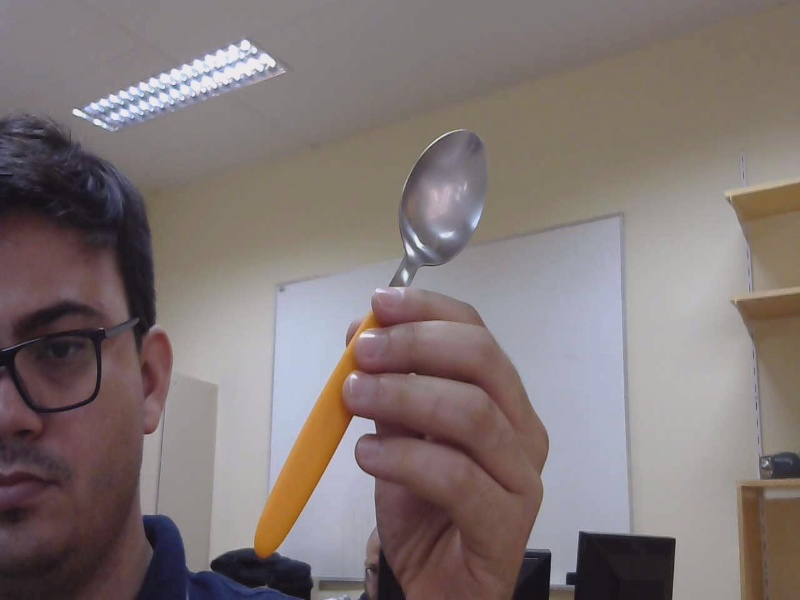cuchara: (250, 120, 503, 559)
